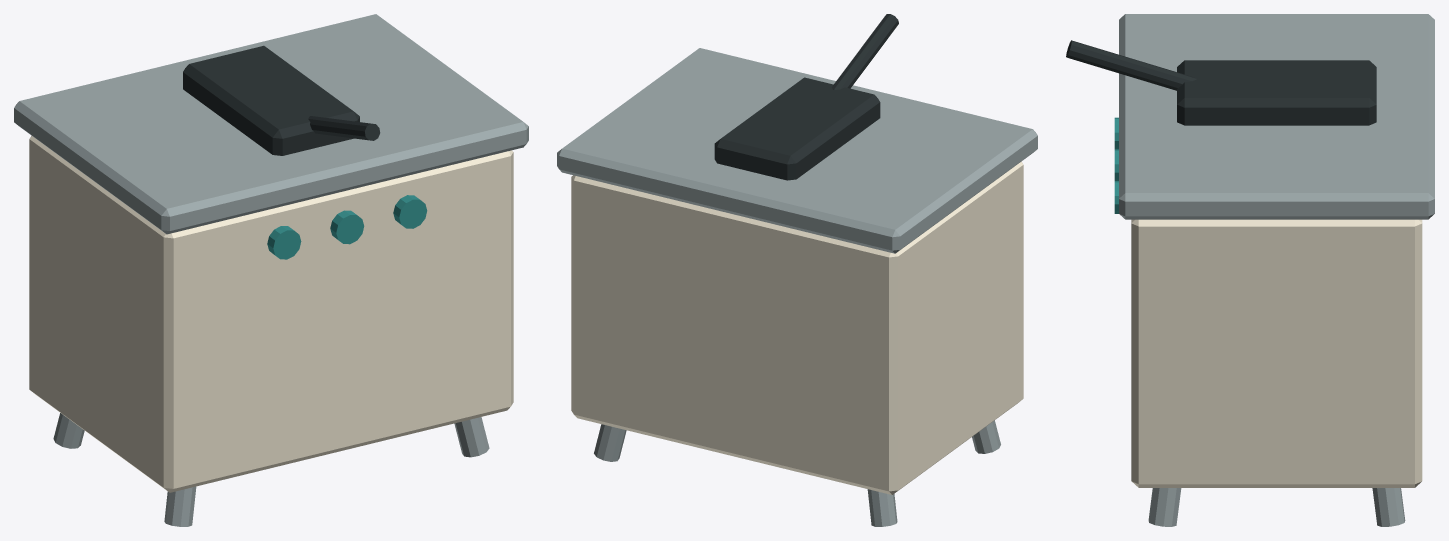
File: Deep_Fryer_A.glb
The picture shows the model from 3 angles, left to right: view 1: azimuth 30°, elevation 25°; view 2: azimuth 150°, elevation 25°; view 3: azimuth 270°, elevation 25°; orthographic projection. The views are drawn at different scales.
Visible parts, largest first — view 1: Deep_Fryer_A; view 2: Deep_Fryer_A; view 3: Deep_Fryer_A.
Boxes of the visible parts, x1,y1,x2,y2 form: Deep_Fryer_A: (14, 14, 528, 526); Deep_Fryer_A: (557, 14, 1037, 526); Deep_Fryer_A: (1066, 14, 1434, 526).
Bounding box in the file's own units: 1.05 × 1.09 × 0.887.
